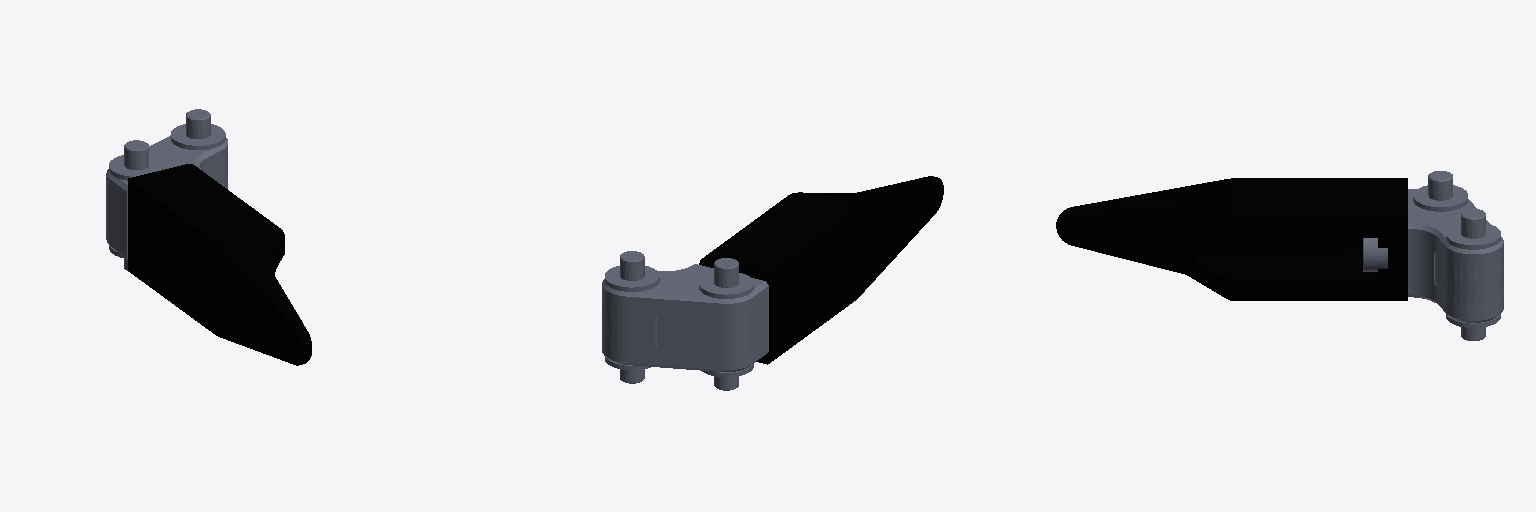
File: left_finger_tip.obj
The picture shows the model from 3 angles: view 1: azimuth 30°, elevation 25°; view 2: azimuth 150°, elevation 25°; view 3: azimuth 270°, elevation 25°; orthographic projection.
Parts seen in each view (by area): view 1: 1, 2; view 2: 1, 2; view 3: 1, 2.
Boxes of the visible parts, x1,y1,x2,y2 form: 1: [128, 164, 311, 365]; 2: [106, 109, 227, 271]; 1: [699, 176, 943, 364]; 2: [602, 251, 768, 390]; 1: [1056, 178, 1407, 300]; 2: [1363, 171, 1503, 340].
Size of the model in its own units: 0.0299 by 0.027 by 0.089.